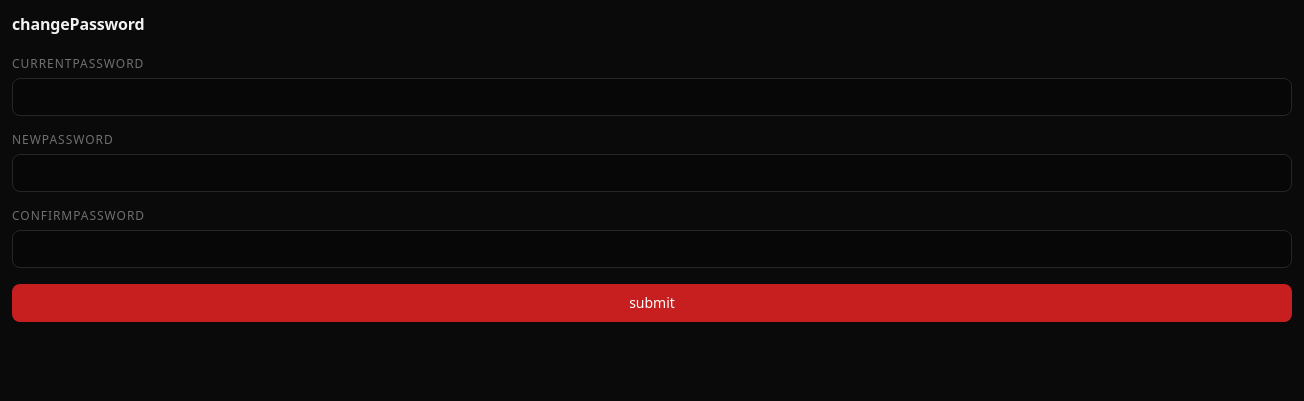
Test: ChangePasswordForm › should show min length error for short passwords
The width and height of the screenshot is (1304, 401).
Type "oldpass1" into the password field labelled "currentPassword" at (652, 97), box [12, 78, 1292, 116]
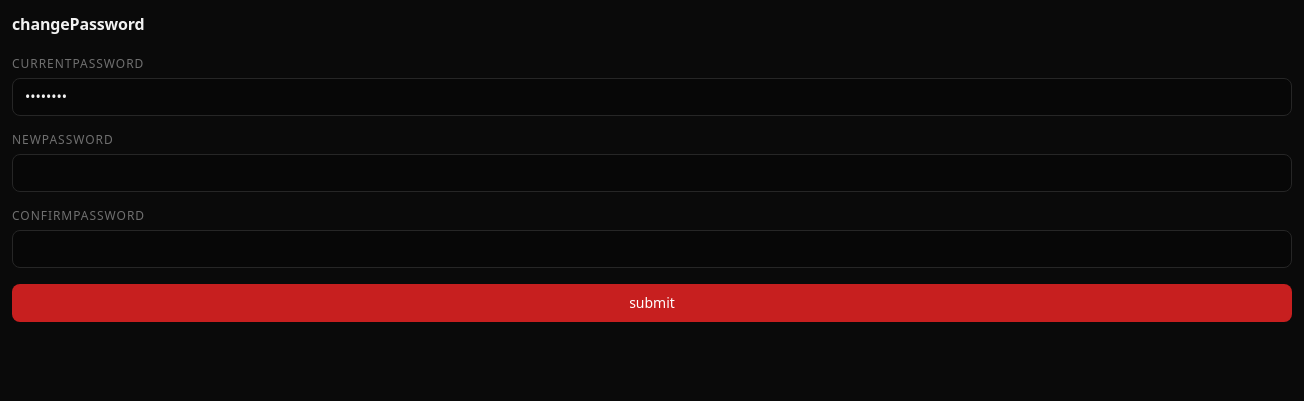
Type "short" into the password field labelled "newPassword" at (652, 173), box [12, 154, 1292, 192]
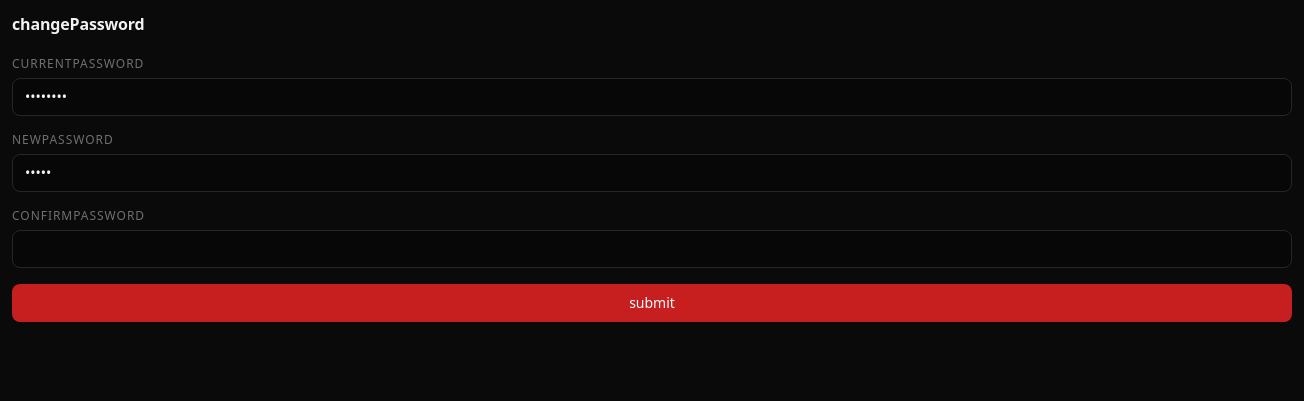
Type "short" into the password field labelled "confirmPassword" at (652, 249), box [12, 230, 1292, 268]
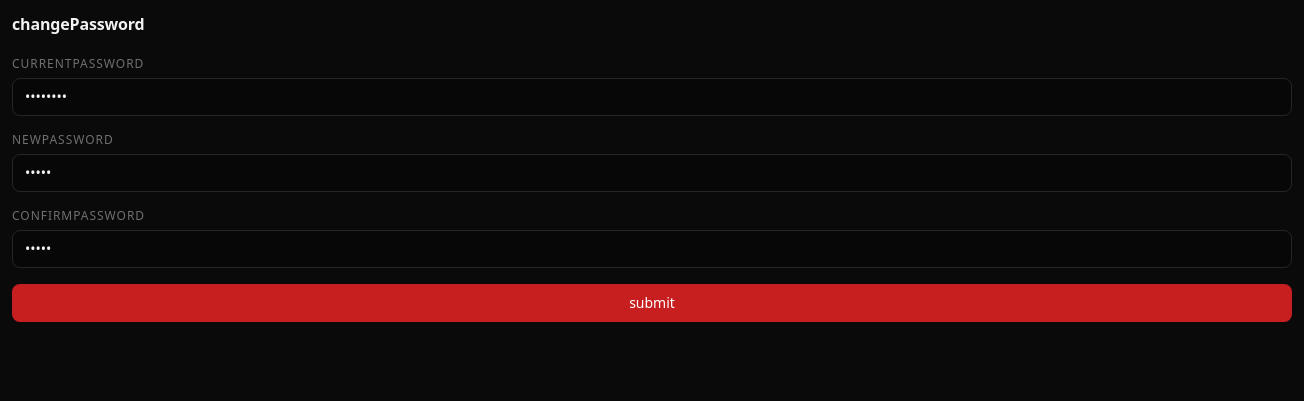
Click the button "submit" at (652, 303), box [12, 284, 1292, 322]
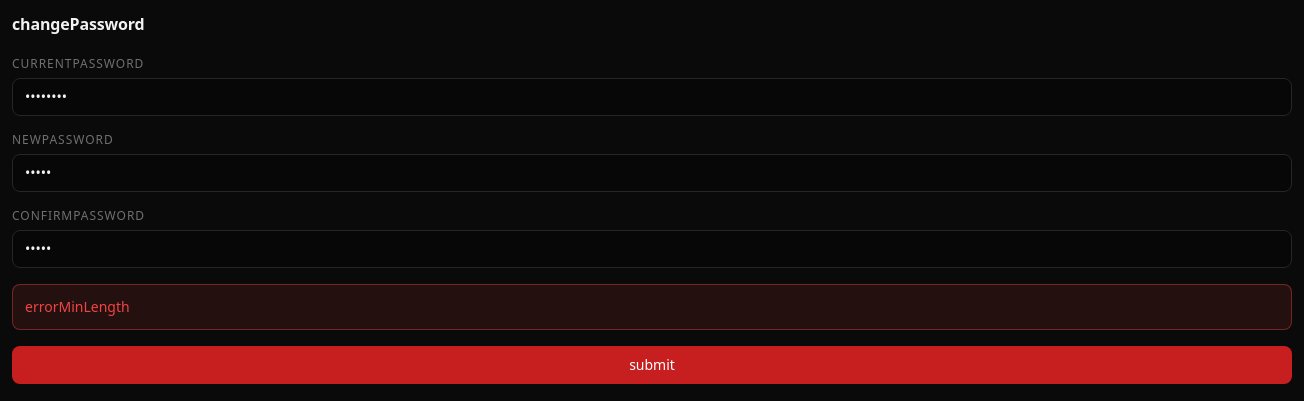
Expected: the message reads "errorMinLength", [25, 297, 130, 316]
